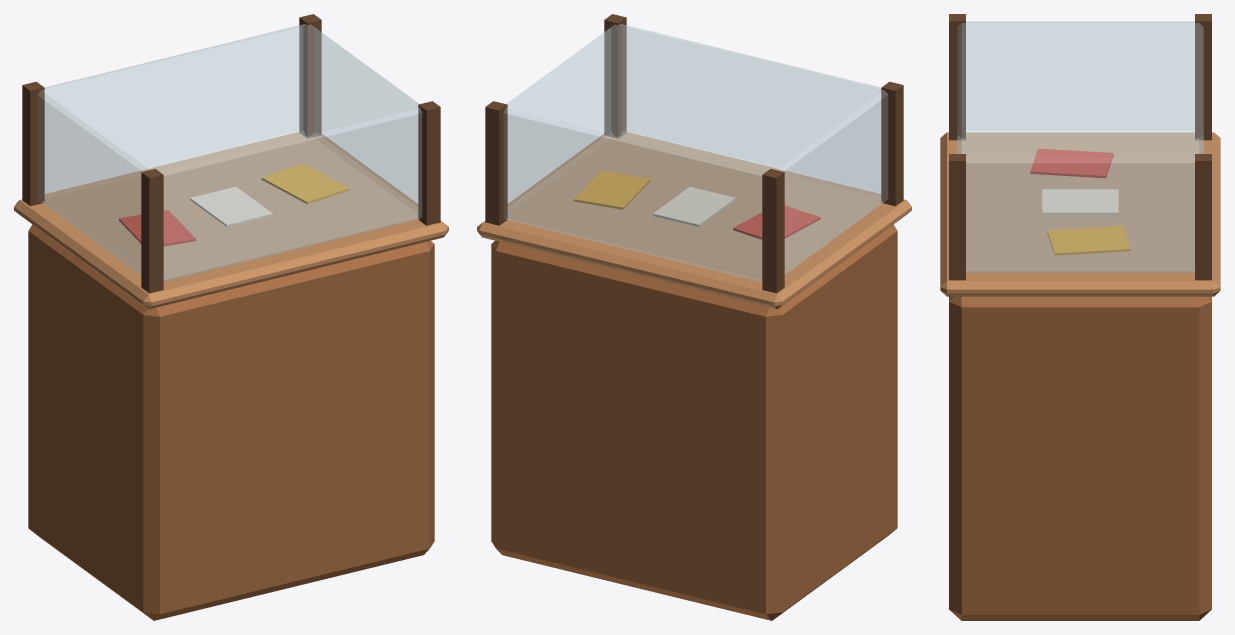
The model's file is display_case.glb.
3 renders of one model, left to right at view 1: azimuth 30°, elevation 25°; view 2: azimuth 150°, elevation 25°; view 3: azimuth 270°, elevation 25°, orthographic. The views are drawn at different scales.
Parts seen in each view (by area): view 1: display_case; view 2: display_case; view 3: display_case.
Part boxes in pixels (x1,y1,x2,y2): display_case: [14, 14, 448, 620]; display_case: [477, 14, 911, 620]; display_case: [940, 14, 1220, 620].
Bounding box in the file's own units: 0.86 × 1.21 × 0.66.
